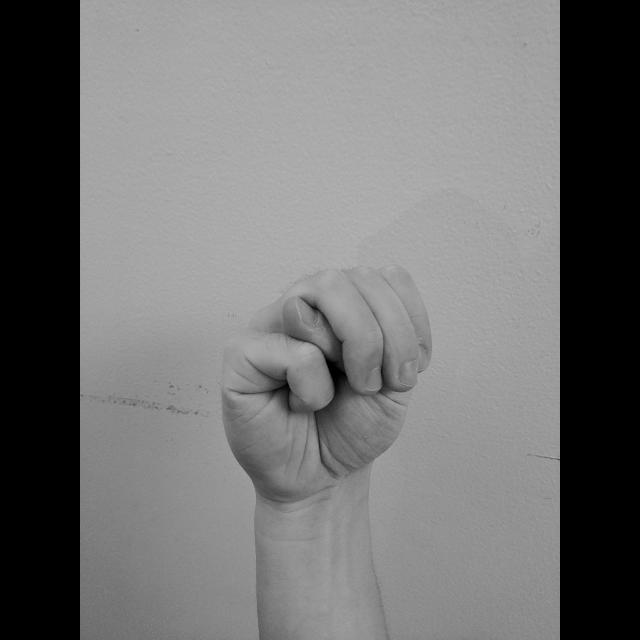M: (214, 256, 441, 504)
